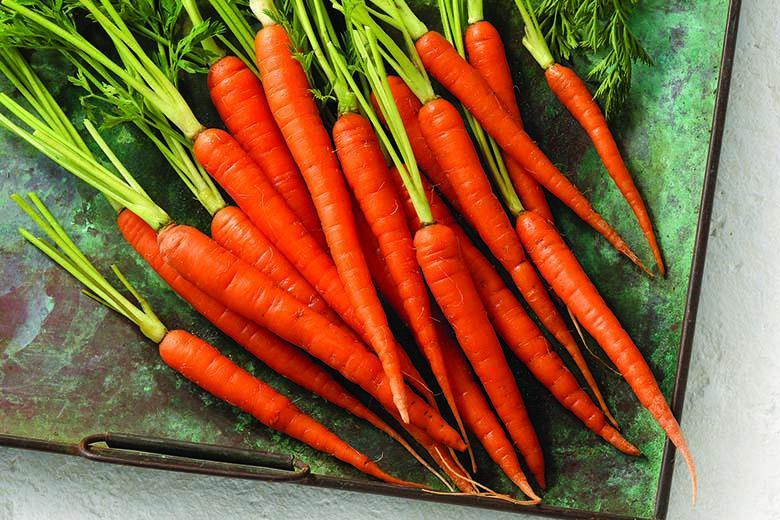carrot: (196, 28, 639, 474), (354, 51, 650, 367), (210, 98, 375, 390), (376, 198, 547, 474)
